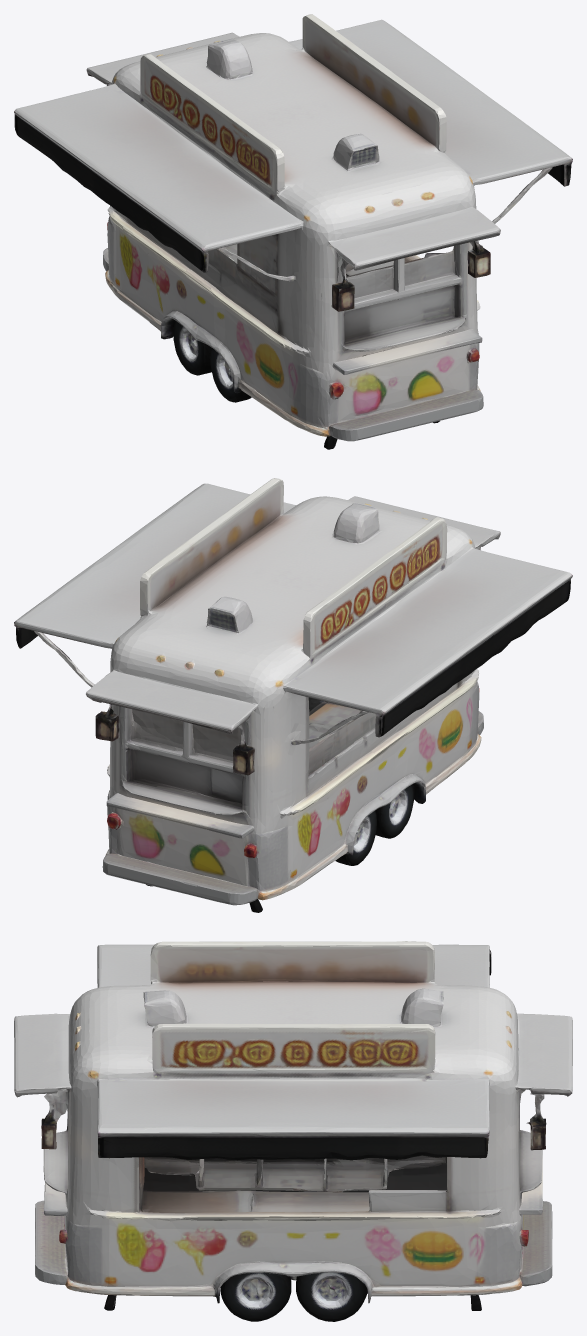
Rendered from foodTrailerobj.glb.
3 views of the same model, one above another, from view 1: azimuth 30°, elevation 25°; view 2: azimuth 150°, elevation 25°; view 3: azimuth 270°, elevation 25° (orthographic). The views are drawn at different scales.
Parts seen in each view (by area): view 1: world; view 2: world; view 3: world.
Boxes of the visible parts, left/top/right/bottom form: world: left=14, top=14, right=572, bottom=449; world: left=14, top=478, right=572, bottom=912; world: left=14, top=941, right=572, bottom=1321.
Bounding box in the file's own units: 0.7942 × 0.5884 × 0.9991.
1 material, 1 textured.
